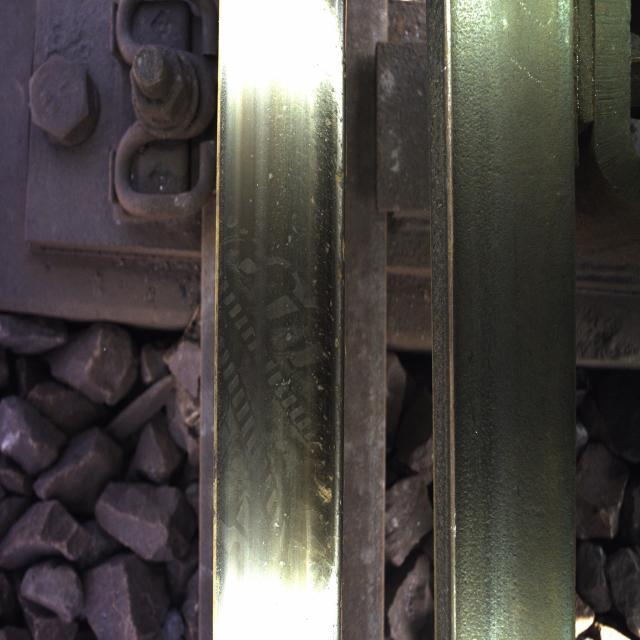scar: (251, 86, 339, 580)
